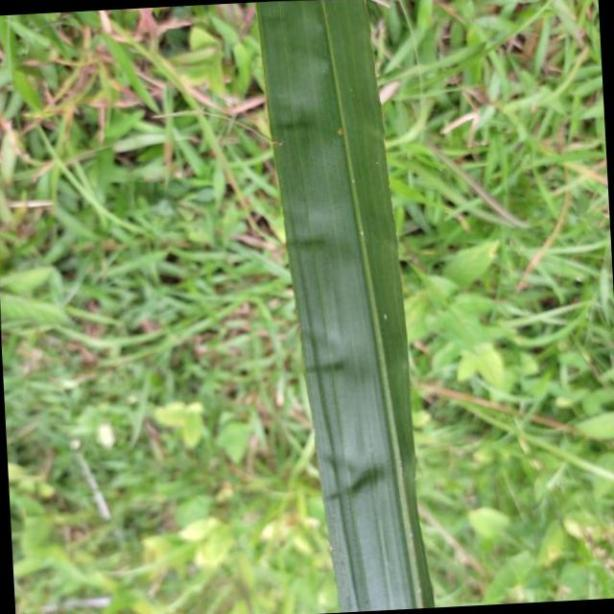Boron: (258, 0, 438, 614)
